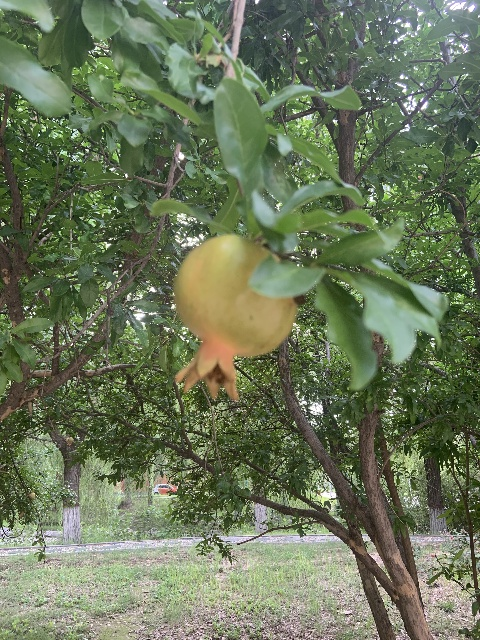mid-growth: (171, 234, 296, 402)
